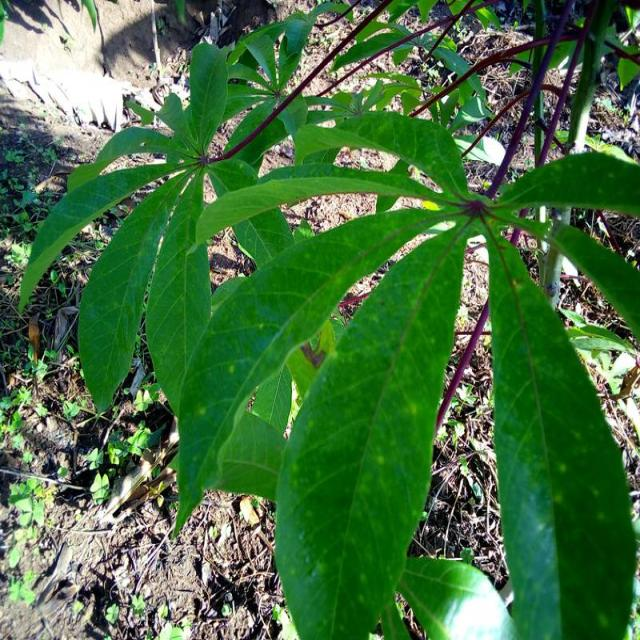cassava leaf: (17, 1, 638, 638), (272, 217, 469, 638), (482, 216, 637, 638)
